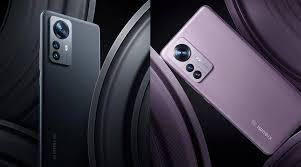Smartphone: (166, 16, 300, 156), (41, 7, 106, 165)
